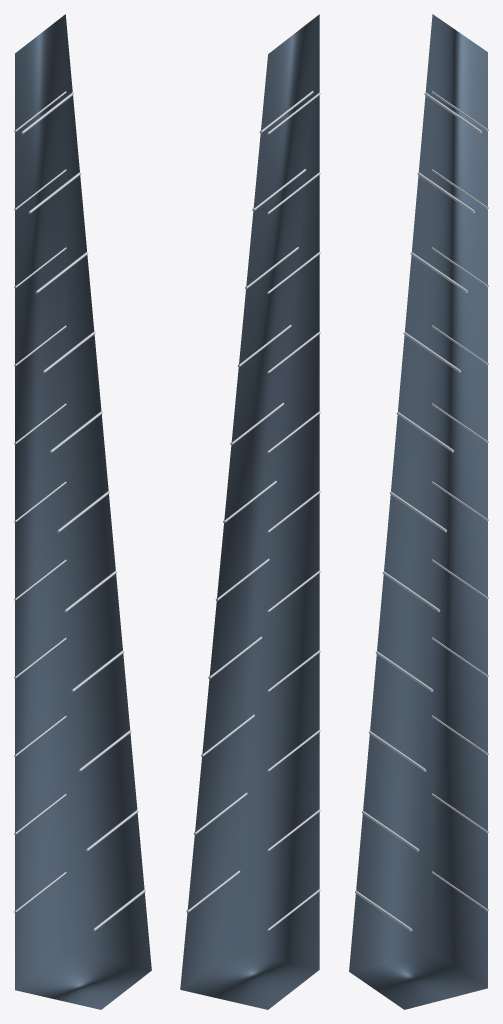
The model's file is grater.glb.
3 views of the same model, side by side, from view 1: azimuth 30°, elevation 25°; view 2: azimuth 210°, elevation 25°; view 3: azimuth 270°, elevation 25° (orthographic). The views are drawn at different scales.
Parts seen in each view (by area): view 1: grater; view 2: grater; view 3: grater.
Boxes of the visible parts, left/top/right/bottom form: grater: left=14, top=14, right=151, bottom=1009; grater: left=180, top=14, right=320, bottom=1009; grater: left=349, top=14, right=488, bottom=1009.
Size of the model in its own units: 0.6262 by 4.55 by 0.616.
